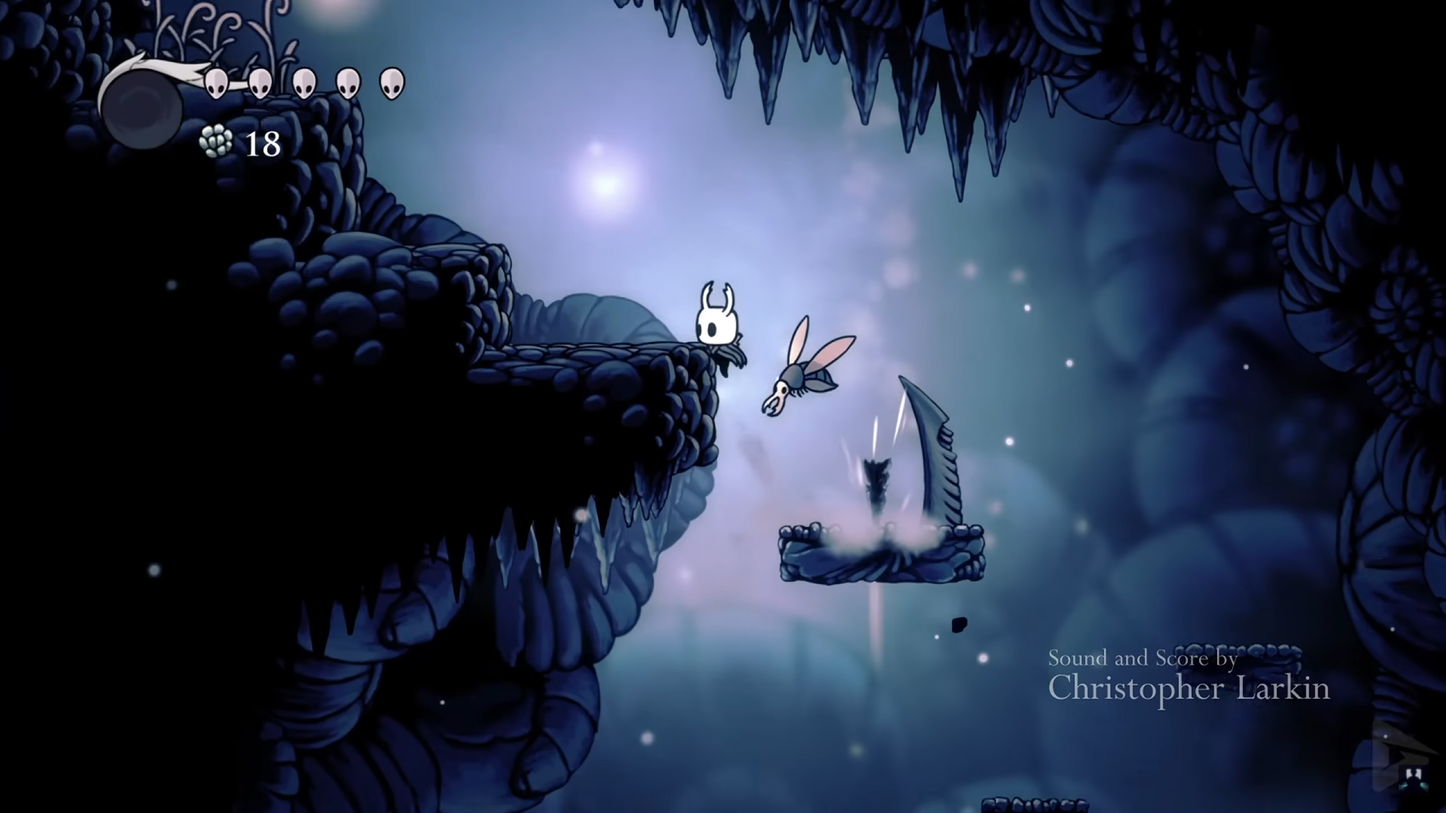HK: (687, 279, 748, 380)
